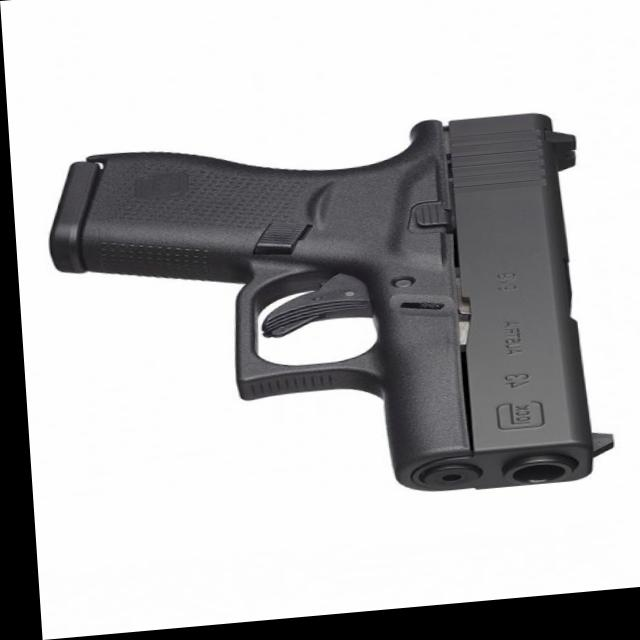handgun: (38, 115, 617, 529)
